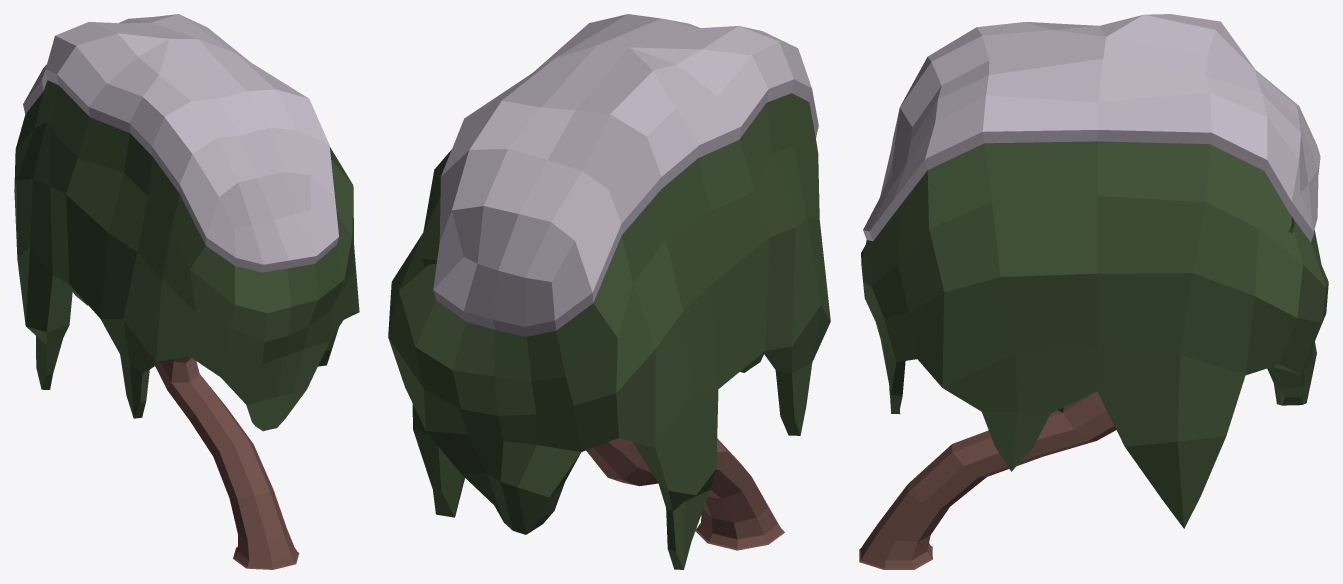
Rendered from willow_snow_3.glb.
3 views of the same model, side by side, from view 1: azimuth 30°, elevation 25°; view 2: azimuth 150°, elevation 25°; view 3: azimuth 270°, elevation 25° (orthographic). The views are drawn at different scales.
Parts seen in each view (by area): view 1: Willow_Snow_3; view 2: Willow_Snow_3; view 3: Willow_Snow_3.
Part boxes in pixels (left/top/right/bottom): Willow_Snow_3: left=14, top=14, right=359, bottom=569; Willow_Snow_3: left=388, top=14, right=830, bottom=569; Willow_Snow_3: left=859, top=14, right=1328, bottom=569.
Size of the model in its own units: 3.16 by 5.78 by 4.76.
